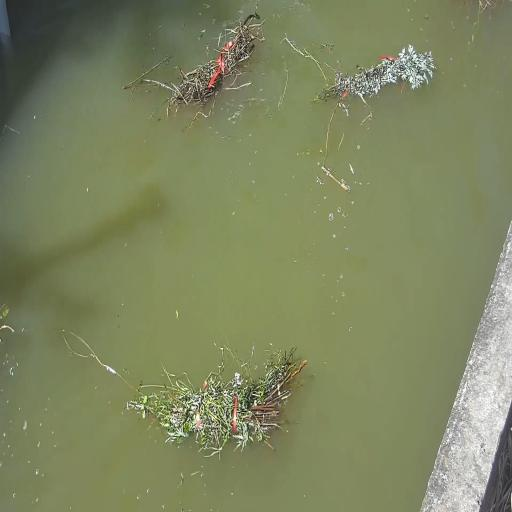twig: (130, 349, 307, 452), (148, 12, 268, 117), (308, 34, 440, 110)
